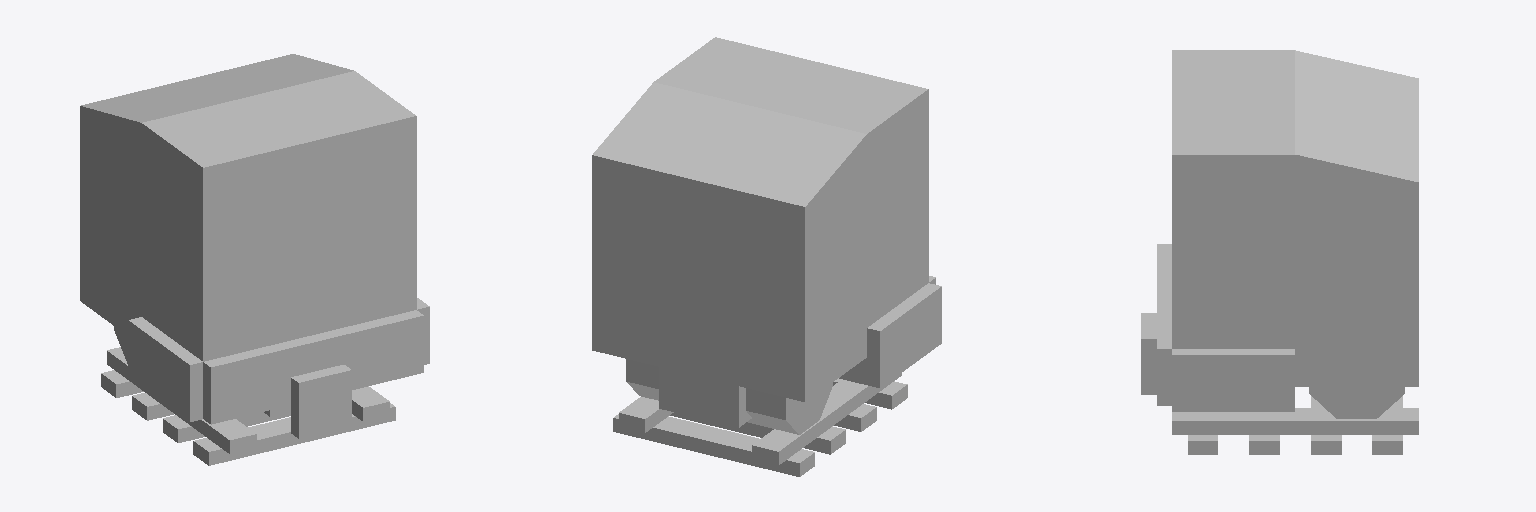
The model's file is sm_mapnodes_train3.obj.
3 renders of one model, left to right at view 1: azimuth 30°, elevation 25°; view 2: azimuth 150°, elevation 25°; view 3: azimuth 270°, elevation 25°, orthographic.
Visible parts, largest first — view 1: Train3; view 2: Train3; view 3: Train3.
Boxes of the visible parts, x1,y1,x2,y2 form: Train3: [80, 54, 429, 465]; Train3: [592, 37, 941, 476]; Train3: [1141, 50, 1418, 454].
Bounding box in the file's own units: 1.12 × 1.38 × 1.12.